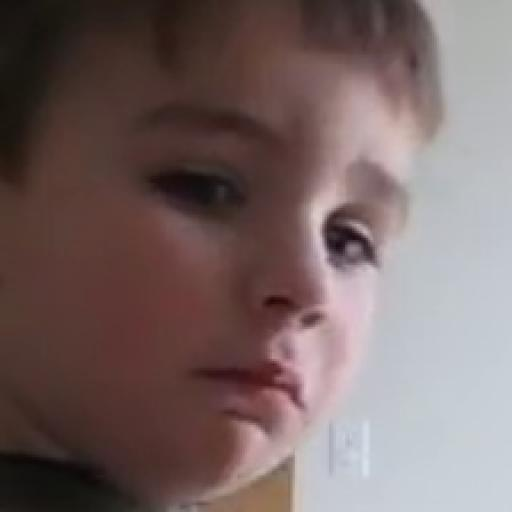Autism: (26, 8, 432, 510)
